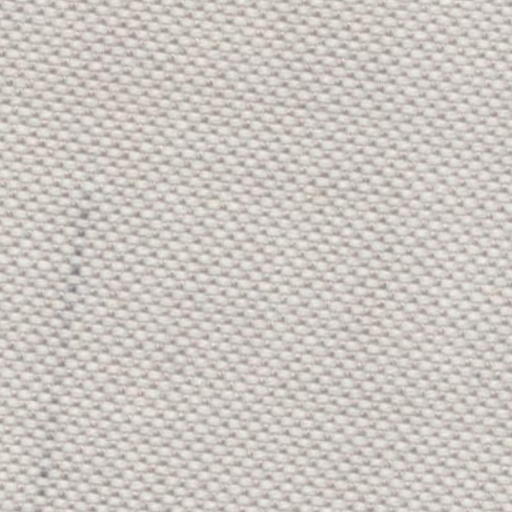WuZi: (20, 192, 88, 506)
